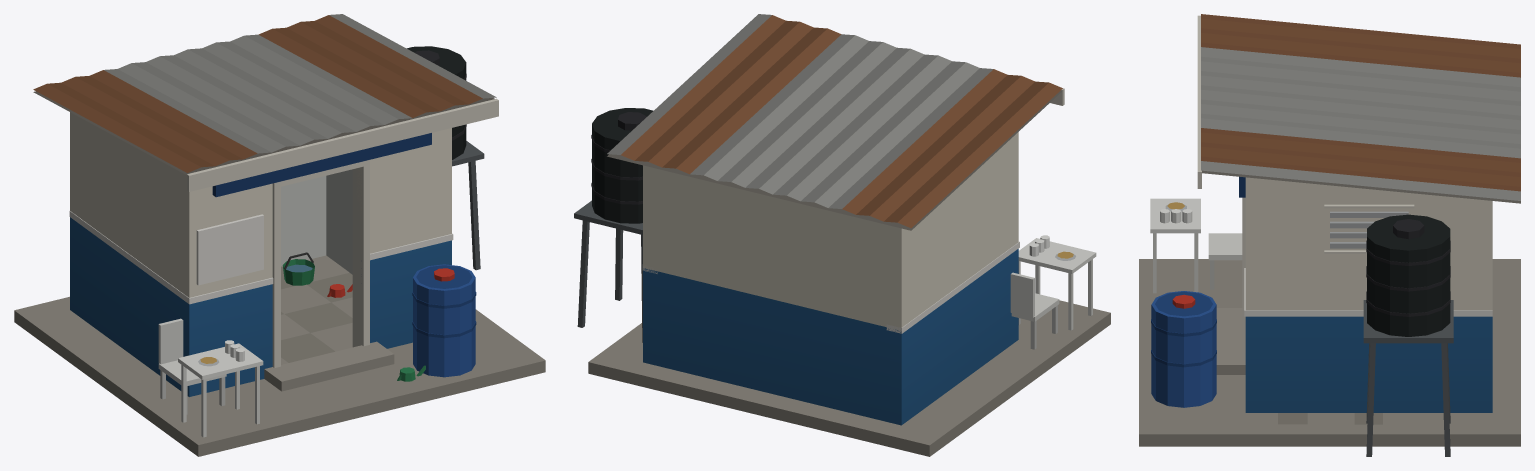
The model's file is ns_toilet.glb.
The picture shows the model from 3 angles, left to right: view 1: azimuth 30°, elevation 25°; view 2: azimuth 150°, elevation 25°; view 3: azimuth 270°, elevation 25°; orthographic projection. The views are drawn at different scales.
Parts seen in each view (by area): view 1: ns_toilet; view 2: ns_toilet; view 3: ns_toilet.
Part boxes in pixels (box(x1,y1,x2,y2)): ns_toilet: box(14, 14, 545, 456); ns_toilet: box(574, 14, 1110, 456); ns_toilet: box(1139, 14, 1520, 456).
Size of the model in its own units: 4.2 by 2.64 by 3.4.
